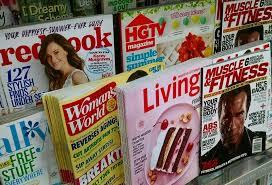Printing industry: (1, 3, 272, 185)
